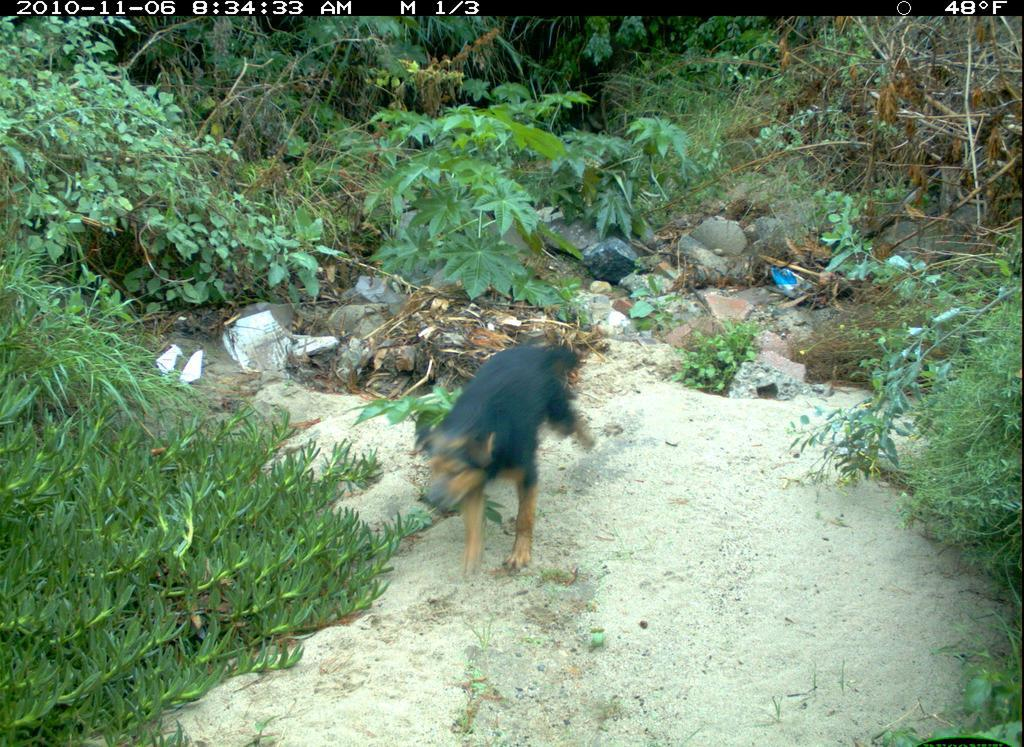dog: (378, 296, 611, 584)
